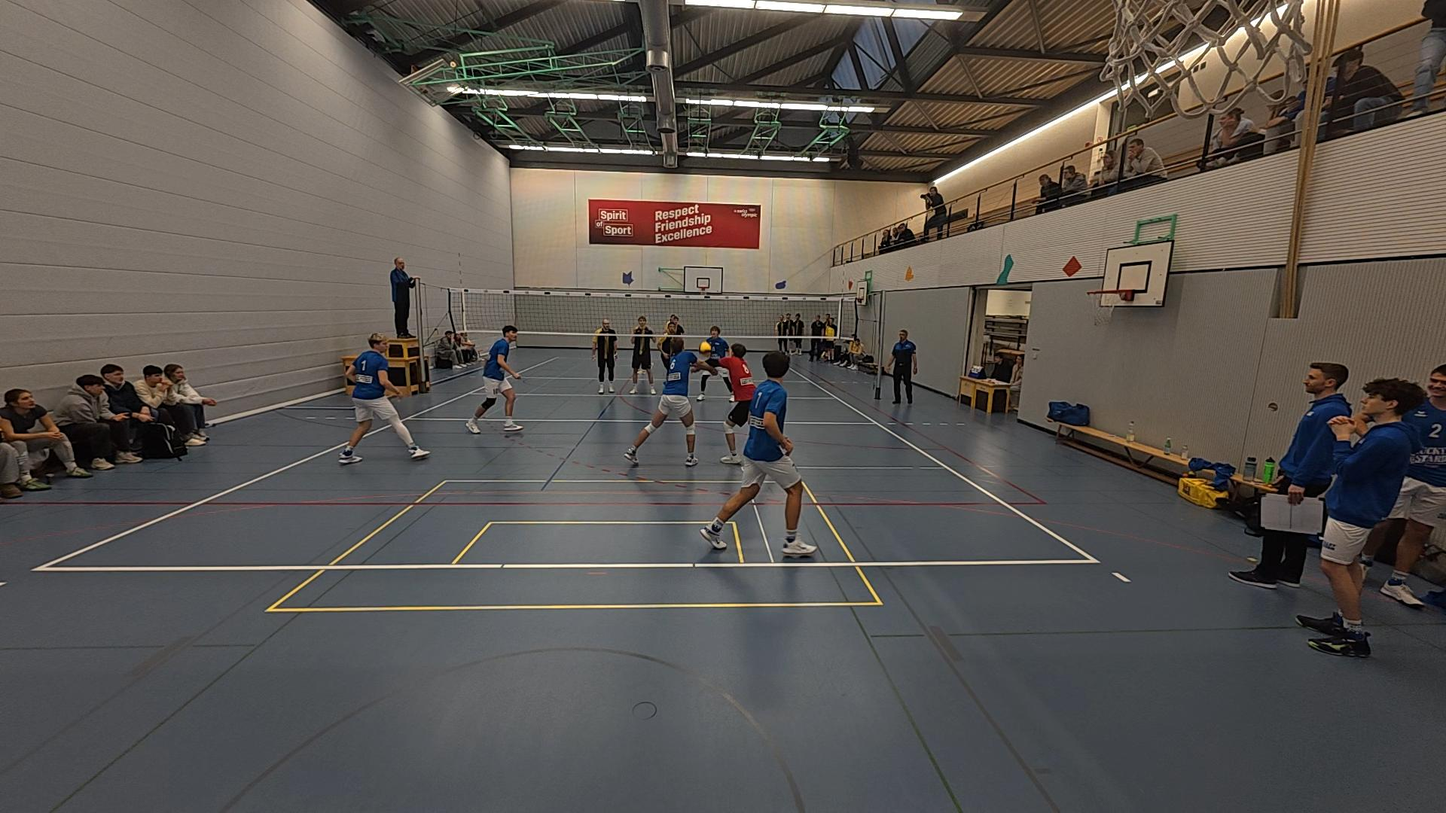Player: (703, 351, 815, 556), (337, 333, 429, 464), (468, 325, 523, 434), (691, 324, 725, 399), (626, 315, 655, 395), (592, 317, 621, 394), (660, 315, 685, 368)
Receive: (617, 332, 717, 467), (695, 343, 757, 464)
ball: (901, 264, 917, 281), (696, 339, 714, 354)
